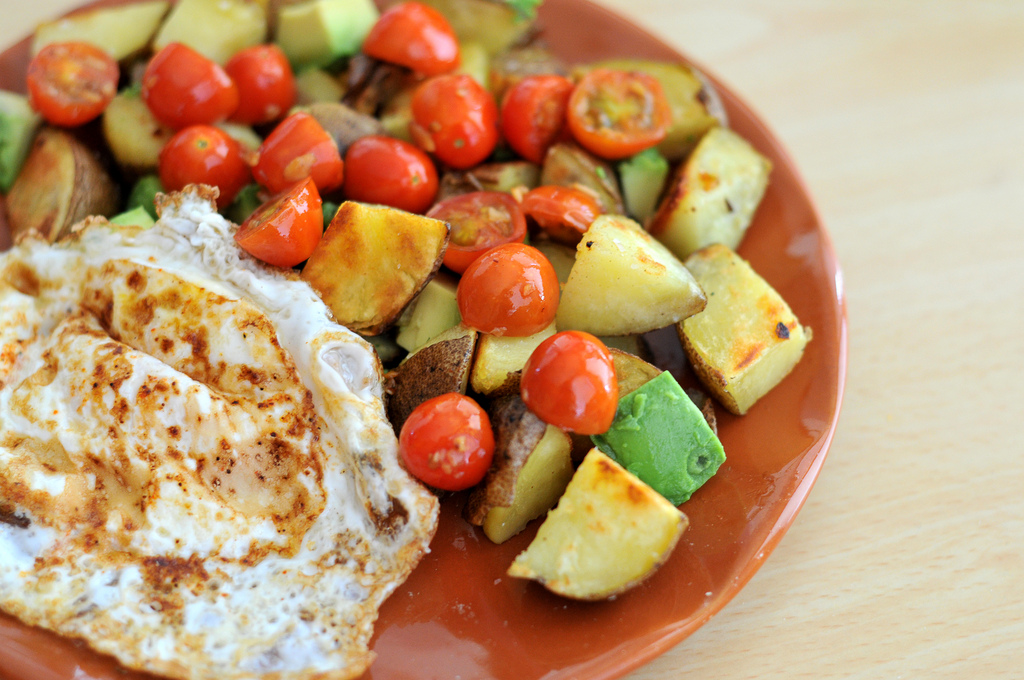fried egg: (6, 183, 434, 680)
